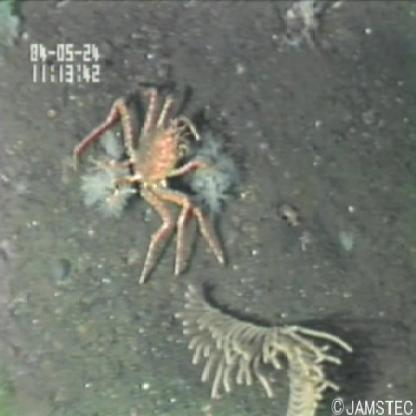Bio: (67, 81, 240, 292), (166, 278, 361, 416)
